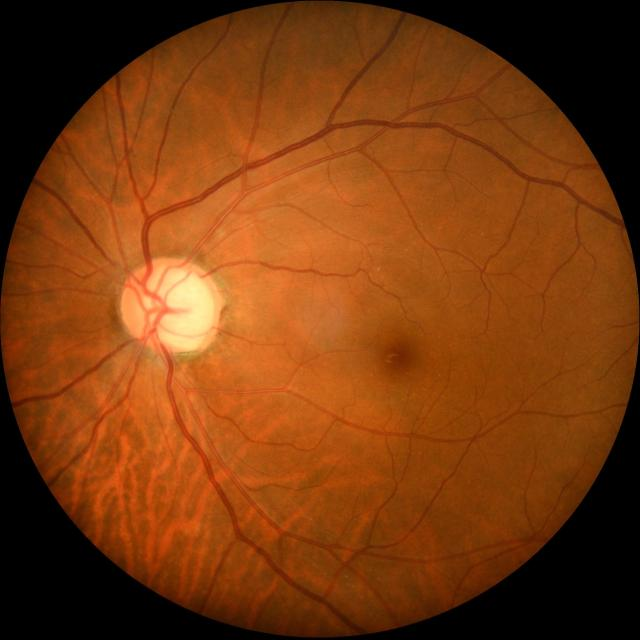OC: (138, 266, 212, 348)
OD: (120, 258, 221, 354)
